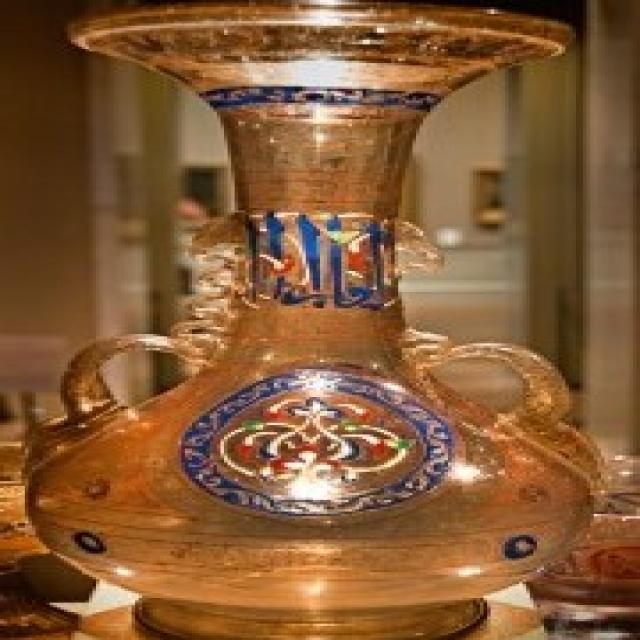electronic: (33, 9, 593, 640), (526, 441, 640, 640)
